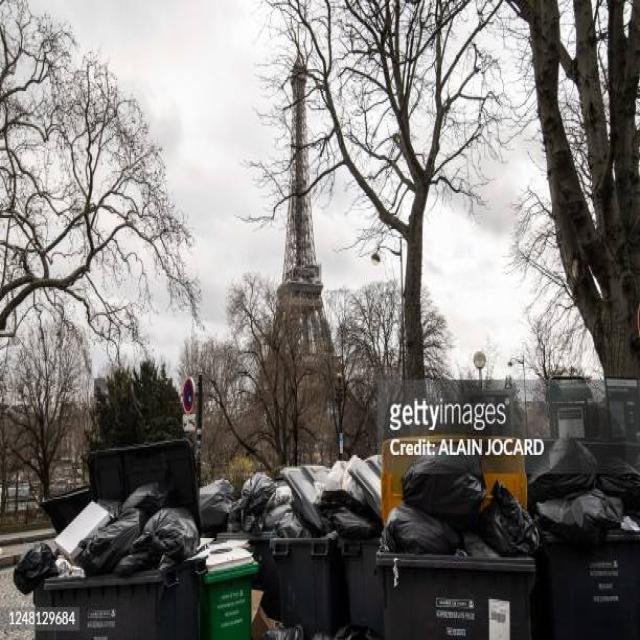trash: (49, 405, 606, 568)
